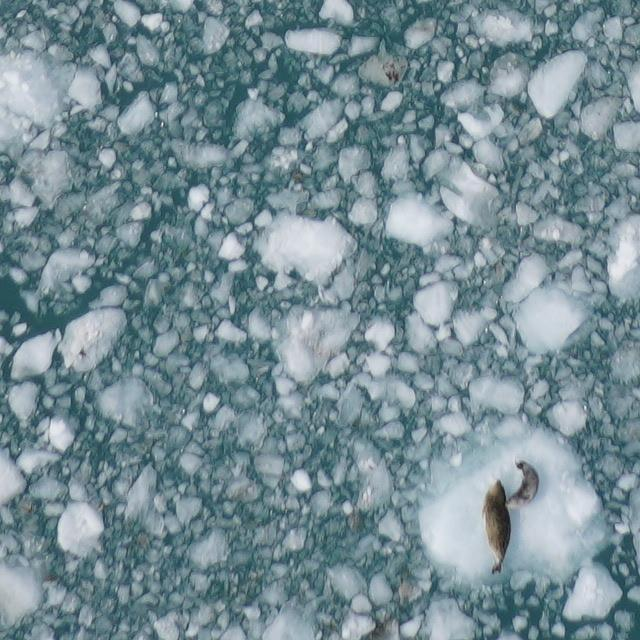seal: (483, 477, 511, 573), (508, 460, 539, 507)
